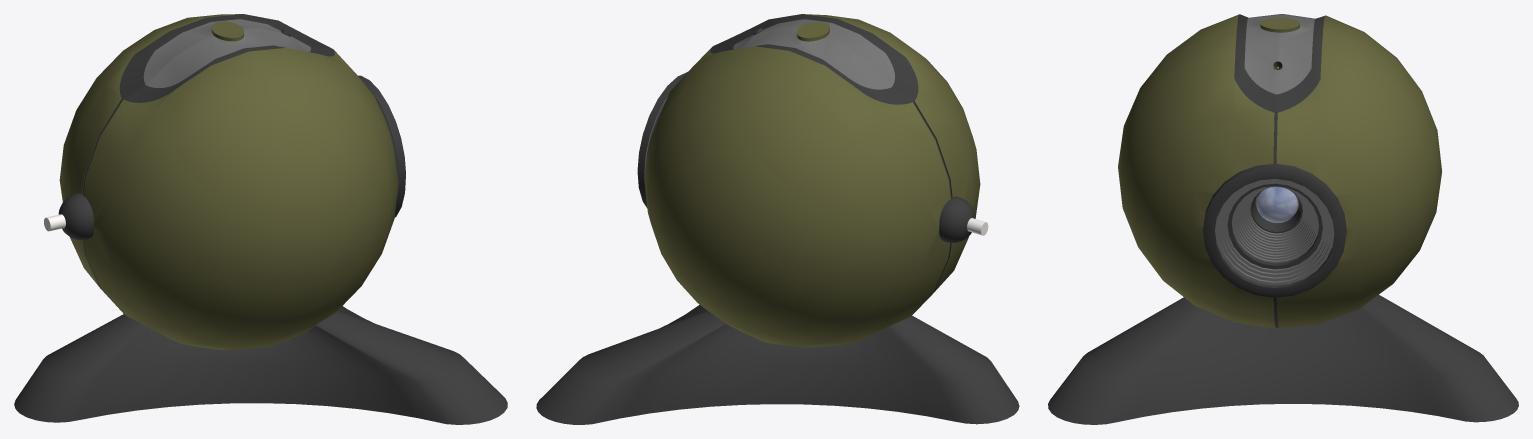
3 views of the same model, side by side, from view 1: azimuth 30°, elevation 25°; view 2: azimuth 150°, elevation 25°; view 3: azimuth 270°, elevation 25° (orthographic). The views are drawn at different scales.
Parts seen in each view (by area): view 1: Composant__4 (×6), Composant__9; view 2: Composant__4 (×6), Composant__9; view 3: Composant__4 (×16), Composant__9.
Boxes of the visible parts, box(x1,y1,x2,y2) form: Composant__4 (×6): box(58, 14, 405, 349); Composant__9: box(14, 306, 507, 424); Composant__4 (×6): box(637, 14, 980, 347); Composant__9: box(536, 304, 1019, 424); Composant__4 (×16): box(1118, 14, 1442, 328); Composant__9: box(1048, 295, 1518, 424).
Bounding box in the file's own units: 4.91 × 5.52 × 4.14.
Materials: 7 (1 with a texture image).
